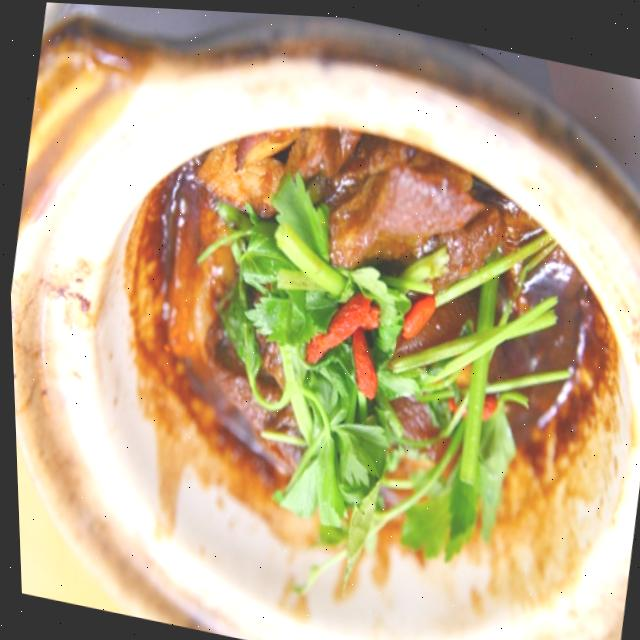汤锅炖物: (33, 63, 640, 640)
